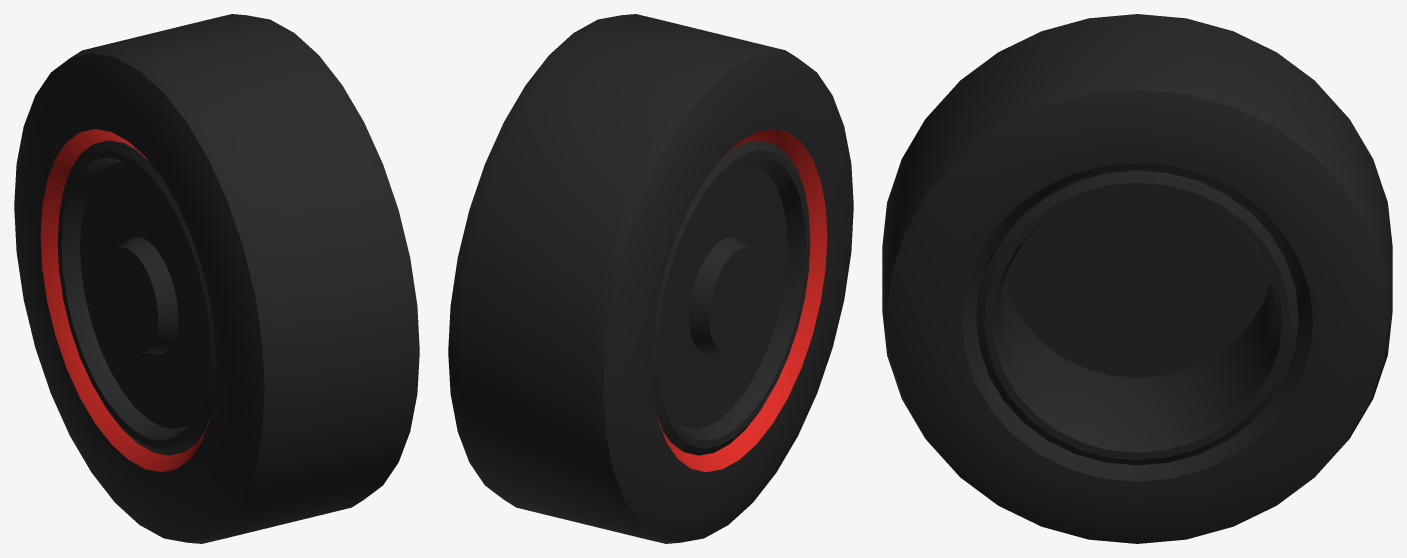
The model's file is Racecar_RearWheel.fbx.
3 renders of one model, left to right at view 1: azimuth 30°, elevation 25°; view 2: azimuth 150°, elevation 25°; view 3: azimuth 270°, elevation 25°, orthographic.
Parts seen in each view (by area): view 1: Car-7_RearWheel; view 2: Car-7_RearWheel; view 3: Car-7_RearWheel.
Part boxes in pixels (box(x1,y1,x2,y2)): Car-7_RearWheel: box(14, 14, 419, 543); Car-7_RearWheel: box(448, 14, 853, 543); Car-7_RearWheel: box(882, 14, 1392, 543).
Size of the model in its own units: 0.4066 by 0.4066 by 0.1633.
